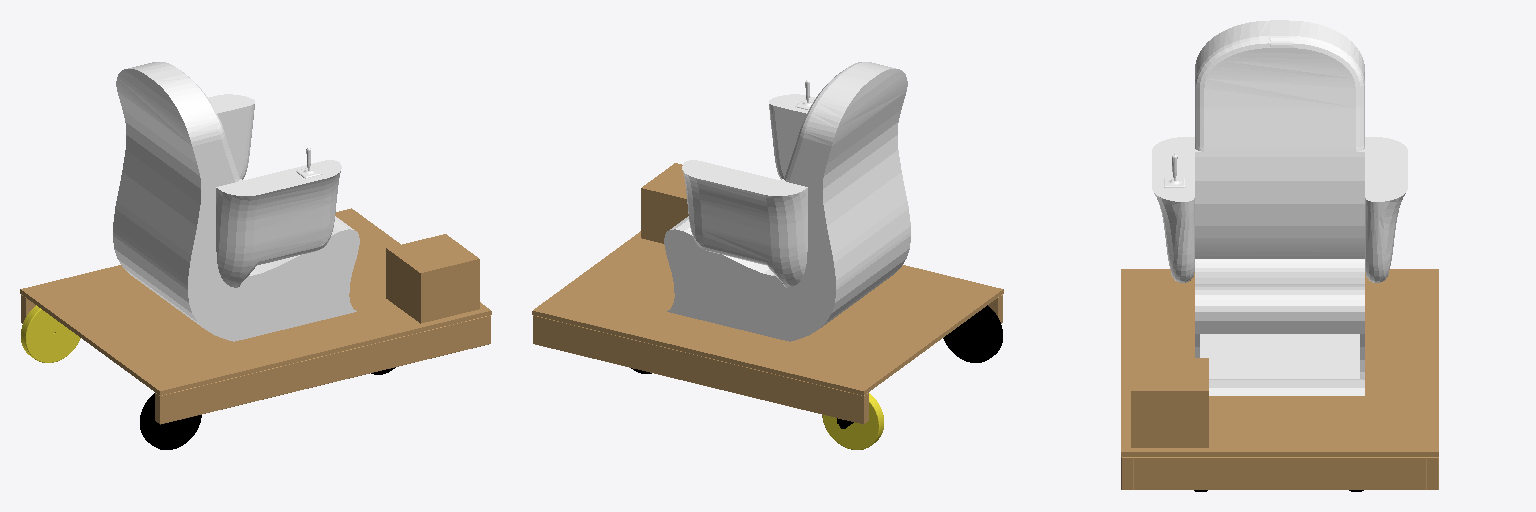
URDF robot description (autonomous_wheelchair):
<?xml version="1.0" encoding="utf-8"?>
<!-- This URDF was automatically created by SolidWorks to URDF Exporter! Originally created by [author] ([email redacted]) 
     Commit Version: 1.5.1-0-g916b5db  Build Version: 1.5.7152.31018
     For more information, please see http://wiki.ros.org/sw_urdf_exporter -->
<robot
  name="autonomous_wheelchair">

<gazebo reference="plank">
	<material>Gazebo/Wood</material>
</gazebo>
<gazebo reference="front_right_wheel">
	<material>Gazebo/Black</material>
</gazebo>
<gazebo reference="front_left_wheel">
	<material>Gazebo/Black</material>
</gazebo>
<gazebo reference="rear_right_wheel">
	<material>Gazebo/Black</material>
</gazebo>
<gazebo reference="rear_left_wheel">
	<material>Gazebo/Black</material>
</gazebo>

  <link
    name="base_link">
    <visual>
      <origin
        xyz="0 0 0"
        rpy="0 0 0" />
      <geometry>
        <mesh
          filename="package://autonomous_wheelchair/meshes/base_link.STL" />
      </geometry>
      <material
        name="">
        <color
          rgba="1 1 1 1" />
      </material>
    </visual>
    <collision>
      <origin
        xyz="0 0 0"
        rpy="0 0 0" />
      <geometry>
        <mesh
          filename="package://autonomous_wheelchair/meshes/base_link.STL" />
      </geometry>
    </collision>
  </link>
  <link
    name="plank">
    <inertial>
      <origin
        xyz="-0.097342 0.0074092 0.044893"
        rpy="0 0 0" />
      <mass
        value="5" />
      <inertia
        ixx="0.35621"
        ixy="-5.9641E-08"
        ixz="-1.1736E-17"
        iyy="1.0289"
        iyz="3.4237E-17"
        izz="0.68758" />
    </inertial>
    <visual>
      <origin
        xyz="0 0 0"
        rpy="0 0 0" />
      <geometry>
        <mesh
          filename="package://autonomous_wheelchair/meshes/plank.STL" />
      </geometry>
      <material
        name="">
        <color
          rgba="0.79 0.64 0.44 1" />
      </material>
    </visual>
    <collision>
      <origin
        xyz="0 0 0"
        rpy="0 0 0" />
      <geometry>
        <mesh
          filename="package://autonomous_wheelchair/meshes/plank.STL" />
      </geometry>
    </collision>
  </link>
  <joint
    name="base_link_to_plank"
    type="fixed">
    <origin
      xyz="0.4055 0 0.1784"
      rpy="-1.5708 0 3.1416" />
    <parent
      link="base_link" />
    <child
      link="plank" />
    <axis
      xyz="0 0 0" />
  </joint>
  <link
    name="rear_left_holder">
    <inertial>
      <origin
        xyz="-0.015916 0.0125 -0.0034239"
        rpy="0 0 0" />
      <mass
        value="0.013916" />
      <inertia
        ixx="1.6097E-06"
        ixy="3.7878E-23"
        ixz="-2.1561E-22"
        iyy="1.4361E-06"
        iyz="9.2764E-23"
        izz="1.276E-06" />
    </inertial>
    <visual>
      <origin
        xyz="0 0 0"
        rpy="0 0 0" />
      <geometry>
        <mesh
          filename="package://autonomous_wheelchair/meshes/rear_left_holder.STL" />
      </geometry>
      <material
        name="">
        <color
          rgba="0 0 0 1" />
      </material>
    </visual>
    <collision>
      <origin
        xyz="0 0 0"
        rpy="0 0 0" />
      <geometry>
        <mesh
          filename="package://autonomous_wheelchair/meshes/rear_left_holder.STL" />
      </geometry>
    </collision>
  </link>
  <joint
    name="plank_to_rear_left_holder"
    type="fixed">
    <origin
      xyz="0.38708 0.080497 -0.3265"
      rpy="1.5708 0 -1.5708" />
    <parent
      link="plank" />
    <child
      link="rear_left_holder" />
    <axis
      xyz="0 0 0" />
  </joint>
  <link
    name="rear_left_wheel">
    <inertial>
      <origin
        xyz="-1.73472347597681E-18 -0.0125 0"
        rpy="0 0 0" />
      <mass
        value="0.475877090500939" />
      <inertia
        ixx="0.000747122478607138"
        ixy="1.97049696473961E-19"
        ixz="9.48676900924816E-20"
        iyy="0.00144483045238024"
        iyz="-4.10482747025861E-20"
        izz="0.000747122478607138" />
    </inertial>
    <visual>
      <origin
        xyz="0 0 0"
        rpy="0 0 0" />
      <geometry>
        <mesh
          filename="package://autonomous_wheelchair/meshes/rear_left_wheel.STL" />
      </geometry>
      <material
        name="">
        <color
          rgba="0 0 0 1 1" />
      </material>
    </visual>
    <collision>
      <origin
        xyz="0 0 0"
        rpy="0 0 0" />
      <geometry>
        <mesh
          filename="package://autonomous_wheelchair/meshes/rear_left_wheel.STL" />
      </geometry>
    </collision>
  </link>
  <joint
    name="rear_left_holder_to_wheel"
    type="continuous">
    <origin
      xyz="-0.02 0.036 -0.00342393488164091"
      rpy="0 -1.28160102444594 3.14159265358979" />
    <parent
      link="rear_left_holder" />
    <child
      link="rear_left_wheel" />
    <axis
      xyz="0 1 0" />
  </joint>
  <link
    name="rear_right_holder">
    <inertial>
      <origin
        xyz="-0.0159160558559361 0.0125 -0.00342393488164092"
        rpy="0 0 0" />
      <mass
        value="0.0139162856612381" />
      <inertia
        ixx="1.60965110021202E-06"
        ixy="5.67303009446795E-23"
        ixz="-1.08312709090844E-22"
        iyy="1.43608495185743E-06"
        iyz="1.88362218180338E-22"
        izz="1.27604694135772E-06" />
    </inertial>
    <visual>
      <origin
        xyz="0 0 0"
        rpy="0 0 0" />
      <geometry>
        <mesh
          filename="package://autonomous_wheelchair/meshes/rear_right_holder.STL" />
      </geometry>
      <material
        name="">
        <color
          rgba="0 0 0 1" />
      </material>
    </visual>
    <collision>
      <origin
        xyz="0 0 0"
        rpy="0 0 0" />
      <geometry>
        <mesh
          filename="package://autonomous_wheelchair/meshes/rear_right_holder.STL" />
      </geometry>
    </collision>
  </link>
  <joint
    name="plank_to_rear_right_holder"
    type="fixed">
    <origin
      xyz="0.38708 0.080497 0.3015"
      rpy="1.5708 0 -1.5708" />
    <parent
      link="plank" />
    <child
      link="rear_right_holder" />
    <axis
      xyz="0 0 0" />
  </joint>
  <link
    name="rear_right_wheel">
    <inertial>
      <origin
        xyz="-6.6266436782314E-16 0.0125000000000002 -5.55111512312578E-17"
        rpy="0 0 0" />
      <mass
        value="0.475877090500939" />
      <inertia
        ixx="0.000747122478607139"
        ixy="2.36284416600098E-18"
        ixz="-2.71050543121377E-20"
        iyy="0.00144483045238025"
        iyz="2.6739930966527E-19"
        izz="0.000747122478607139" />
    </inertial>
    <visual>
      <origin
        xyz="0 0 0"
        rpy="0 0 0" />
      <geometry>
        <mesh
          filename="package://autonomous_wheelchair/meshes/rear_right_wheel.STL" />
      </geometry>
      <material
        name="">
        <color
          rgba="0 0 0 1" />
      </material>
    </visual>
    <collision>
      <origin
        xyz="0 0 0"
        rpy="0 0 0" />
      <geometry>
        <mesh
          filename="package://autonomous_wheelchair/meshes/rear_right_wheel.STL" />
      </geometry>
    </collision>
  </link>
  <joint
    name="rear_right_holder_to_wheel"
    type="continuous">
    <origin
      xyz="-0.02 -0.011 -0.0034239"
      rpy="0 -1.2785 -3.1416" />
    <parent
      link="rear_right_holder" />
    <child
      link="rear_right_wheel" />
    <axis
      xyz="0 1 0" />
  </joint>
  <link
    name="front_left_holder">
    <inertial>
      <origin
        xyz="0.0250416081121073 0.0302871041420034 -2.5519922008943E-08"
        rpy="0 0 0" />
      <mass
        value="0.0413690931787593" />
      <inertia
        ixx="4.14963317414414E-05"
        ixy="-7.33878003828127E-06"
        ixz="-1.89867870734612E-11"
        iyy="3.21113855130348E-05"
        iyz="3.2034781616693E-11"
        izz="4.81447029114451E-05" />
    </inertial>
    <visual>
      <origin
        xyz="0 0 0"
        rpy="0 0 0" />
      <geometry>
        <mesh
          filename="package://autonomous_wheelchair/meshes/front_left_holder.STL" />
      </geometry>
      <material
        name="">
        <color
          rgba="0 0 0 1" />
      </material>
    </visual>
    <collision>
      <origin
        xyz="0 0 0"
        rpy="0 0 0" />
      <geometry>
        <mesh
          filename="package://autonomous_wheelchair/meshes/front_left_holder.STL" />
      </geometry>
    </collision>
  </link>
  <joint
    name="plank_to_front_left_holder"
    type="continuous">
    <origin
      xyz="-0.282495360870409 0.0365046391295911 -0.157495360870408"
      rpy="0 0 0" />
    <parent
      link="plank" />
    <child
      link="front_left_holder" />
    <axis
      xyz="0 1 0" />
  </joint>
  <link
    name="front_left_wheel">
    <inertial>
      <origin
        xyz="0 -3.33066907387547E-16 1.38777878078145E-17"
        rpy="0 0 0" />
      <mass
        value="0.31504523647005" />
      <inertia
        ixx="0.000287797063737869"
        ixy="-1.44761962630683E-19"
        ixz="-8.45006102807287E-35"
        iyy="0.000528700705862961"
        iyz="-2.6956698631568E-20"
        izz="0.000287797063737869" />
    </inertial>
    <visual>
      <origin
        xyz="0 0 0"
        rpy="0 0 0" />
      <geometry>
        <mesh
          filename="package://autonomous_wheelchair/meshes/front_left_wheel.STL" />
      </geometry>
      <material
        name="">
        <color
          rgba="0 0 0 1" />
      </material>
    </visual>
    <collision>
      <origin
        xyz="0 0 0"
        rpy="0 0 0" />
      <geometry>
        <mesh
          filename="package://autonomous_wheelchair/meshes/front_left_wheel.STL" />
      </geometry>
    </collision>
  </link>
  <joint
    name="front_left_holder_to_wheel"
    type="continuous">
    <origin
      xyz="0.0399999999999995 0.0839000000000001 0"
      rpy="1.5707963267949 0 3.14159265358979" />
    <parent
      link="front_left_holder" />
    <child
      link="front_left_wheel" />
    <axis
      xyz="0 1 0" />
  </joint>
  <link
    name="front_right_holder">
    <inertial>
      <origin
        xyz="0.0250416081121072 0.0302871041420034 -2.5519922008943E-08"
        rpy="0 0 0" />
      <mass
        value="0.0413690931787593" />
      <inertia
        ixx="4.14963317414414E-05"
        ixy="-7.33878003828121E-06"
        ixz="-1.89867870760653E-11"
        iyy="3.21113855130348E-05"
        iyz="3.20347816155861E-11"
        izz="4.81447029114451E-05" />
    </inertial>
    <visual>
      <origin
        xyz="0 0 0"
        rpy="0 0 0" />
      <geometry>
        <mesh
          filename="package://autonomous_wheelchair/meshes/front_right_holder.STL" />
      </geometry>
      <material
        name="">
        <color
          rgba="0 0 0 1" />
      </material>
    </visual>
    <collision>
      <origin
        xyz="0 0 0"
        rpy="0 0 0" />
      <geometry>
        <mesh
          filename="package://autonomous_wheelchair/meshes/front_right_holder.STL" />
      </geometry>
    </collision>
  </link>
  <joint
    name="plank_to_front_right_holder"
    type="continuous">
    <origin
      xyz="-0.282495360870409 0.0365046391295908 0.157504639129592"
      rpy="0 0 0" />
    <parent
      link="plank" />
    <child
      link="front_right_holder" />
    <axis
      xyz="0 1 0" />
  </joint>
  <link
    name="front_right_wheel">
    <inertial>
      <origin
        xyz="-1.11022302462516E-16 0.00500000000000006 0"
        rpy="0 0 0" />
      <mass
        value="0.31504523647005" />
      <inertia
        ixx="0.000287797063737869"
        ixy="-3.56476658932891E-19"
        ixz="0"
        iyy="0.000528700705862961"
        iyz="1.13968914376084E-20"
        izz="0.000287797063737869" />
    </inertial>
    <visual>
      <origin
        xyz="0 0 0"
        rpy="0 0 0" />
      <geometry>
        <mesh
          filename="package://autonomous_wheelchair/meshes/front_right_wheel.STL" />
      </geometry>
      <material
        name="">
        <color
          rgba="0 0 0 1" />
      </material>
    </visual>
    <collision>
      <origin
        xyz="0 0 0"
        rpy="0 0 0" />
      <geometry>
        <mesh
          filename="package://autonomous_wheelchair/meshes/front_right_wheel.STL" />
      </geometry>
    </collision>
  </link>
  <joint
    name="front_right_holder_to_wheel"
    type="continuous">
    <origin
      xyz="0.0399999999999995 0.0839 0"
      rpy="1.5707963267949 0 -3.14139613442679" />
    <parent
      link="front_right_holder" />
    <child
      link="front_right_wheel" />
    <axis
      xyz="0 1 0" />
  </joint>

      <joint name="base_link_to_lidar" type="fixed">
        <parent link="base_link" />
        <child link="base_laser" />
        <origin rpy="0 0 0" xyz="0.75 -0.23 0.3" />
    </joint>
    <link name="base_laser">
    <visual>
      <origin xyz="0 0 0" rpy="0 0 0"/>
      <geometry>
        <mesh filename="package://autonomous_wheelchair/meshes/ydlidar.dae"/>
      </geometry>
    </visual>
   </link>

  <gazebo reference="base_laser">
    <material>Gazebo/FlatBlack</material>
    <sensor type="ray" name="head_ydlidar_sensor">
      <pose>0 0 0 0 0 1</pose>
      <visualize>false</visualize>
      <update_rate>40</update_rate>
      <ray>
        <scan>
          <horizontal>
            <samples>720</samples>
            <resolution>1</resolution>
            <min_angle>-3.14159265</min_angle>
            <max_angle>3.14159265</max_angle>
          </horizontal>
        </scan>
        <range>
          <min>0.7</min>
          <max>9</max>
          <resolution>0.01</resolution>
        </range>
      </ray>
      <plugin name="gazebo_ros_head_ydlidar_controller" filename="libgazebo_ros_laser.so">
        <topicName>/scan</topicName>
        <frameName>base_laser</frameName>
      </plugin>
    </sensor>
  </gazebo>

  <gazebo>
    <plugin name="differential_drive_controller" filename="libgazebo_ros_diff_drive.so">
      <updateRate>60</updateRate>
      <robotNamespace>/autonomous_wheelchair</robotNamespace>
      <leftJoint>rear_left_holder_to_wheel</leftJoint>
      <rightJoint>rear_right_holder_to_wheel</rightJoint>
      <wheelSeparation>0.624 </wheelSeparation>
      <wheelDiameter>0.0779</wheelDiameter>
      <wheelAcceleration>0.5</wheelAcceleration>
      <wheelTorque>20</wheelTorque>
      <commandTopic>cmd_vel</commandTopic>
      <odometryTopic>odom</odometryTopic>
      <odometryFrame>odom</odometryFrame>
      <robotBaseFrame>base_link</robotBaseFrame>
      <odometrySource>1</odometrySource>
      <publishWheelTF>true</publishWheelTF>
      <publishOdom>false</publishOdom>
      <publishWheelJointState>true</publishWheelJointState>
      <legacyMode>false</legacyMode>
    </plugin>
  </gazebo>

  <transmission name="rear_left_wheel_trans">
    <type>transmission_interface/SimpleTransmission</type>
    <joint name="rear_left_holder_to_wheel" >
      <hardwareInterface>hardware_interface/EffortJointInterface</hardwareInterface>
    </joint>
    <actuator name="rear_left_wheel_motor">
      <hardwareInterface>hardware_interface/EffortJointInterface</hardwareInterface>
      <mechanicalReduction>1</mechanicalReduction>
    </actuator>    
  </transmission>

  <transmission name="rear_right_wheel_trans">
    <type>transmission_interface/SimpleTransmission</type>
    <joint name="rear_right_holder_to_wheel" >
      <hardwareInterface>hardware_interface/EffortJointInterface</hardwareInterface>
    </joint>
    <actuator name="rear_right_wheel_motor">
      <hardwareInterface>hardware_interface/EffortJointInterface</hardwareInterface>
      <mechanicalReduction>1</mechanicalReduction>
    </actuator>
  </transmission> 
</robot>

--- Facts derived from the render (not from the file) ---
3 views of the same robot in one strip: view 1: azimuth 30°, elevation 25°; view 2: azimuth 150°, elevation 25°; view 3: azimuth 270°, elevation 25° (orthographic).
Model autonomous_wheelchair with 11 links and 10 joints (6 continuous, 4 fixed), rooted at base_link, posed all joints at 0.
Links seen in each view (by area): view 1: base_link, plank, rear_left_wheel, rear_right_wheel; view 2: base_link, plank, rear_right_wheel, rear_left_wheel; view 3: base_link, plank.
Link boxes in pixels (left/top/right/bottom): base_link: left=113, top=62, right=359, bottom=341; plank: left=20, top=208, right=491, bottom=424; rear_left_wheel: left=21, top=305, right=80, bottom=362; rear_right_wheel: left=140, top=393, right=201, bottom=449; base_link: left=664, top=62, right=910, bottom=341; plank: left=532, top=163, right=1003, bottom=424; rear_right_wheel: left=943, top=305, right=1002, bottom=362; rear_left_wheel: left=822, top=393, right=883, bottom=449; base_link: left=1152, top=20, right=1407, bottom=395; plank: left=1121, top=269, right=1438, bottom=489.
Size in the robot's own frame: 0.916 by 0.653 by 0.8174 metres.
10 mesh visuals loaded from 11 distinct referenced files (10 binary STL); not drawn: 1 (reference not matched to a file when rendering).
